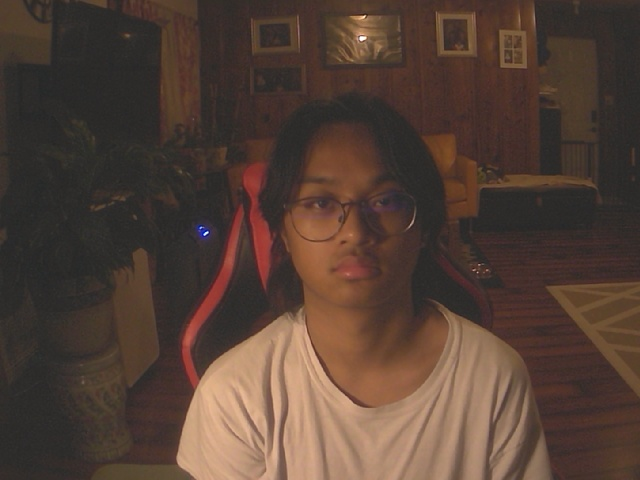neutral: (256, 91, 446, 320)
